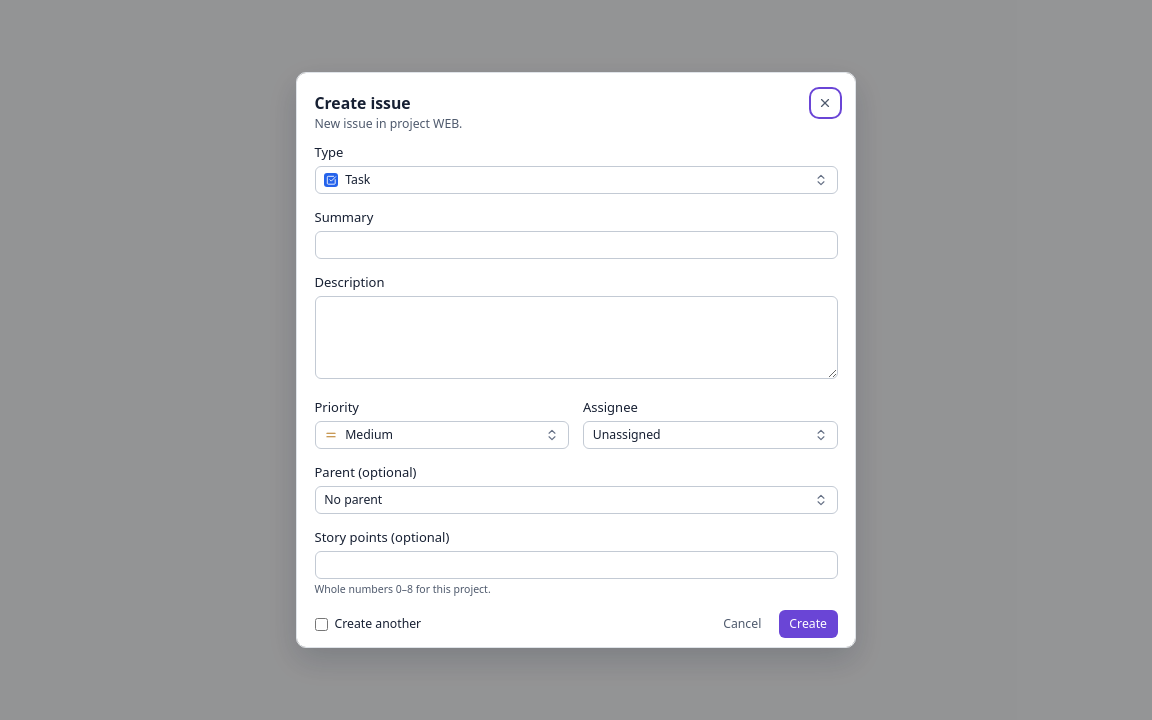
Test case: CreateIssueDialog › validates against effective max before create
Step 1. Type "Sized" into the field labelled "Summary" → (576,245), box [314,231,838,259]
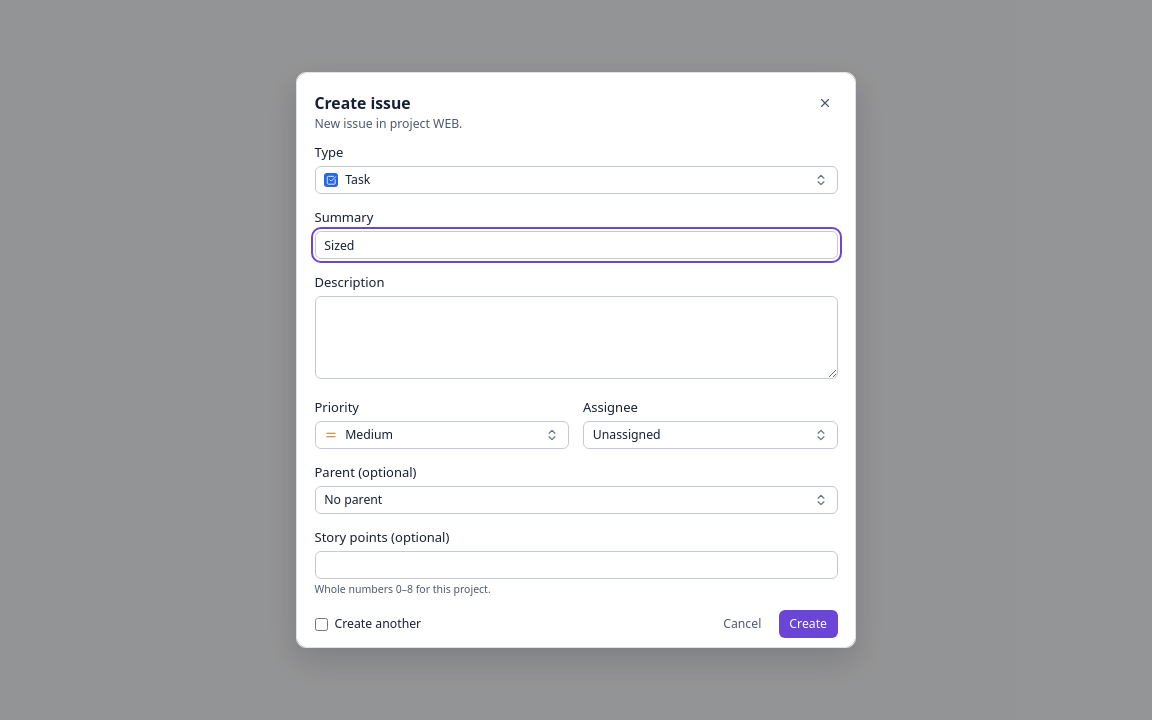
Step 2. Type "9" into the number field labelled "Story points (optional)" → (576,564), box [314,550,838,578]
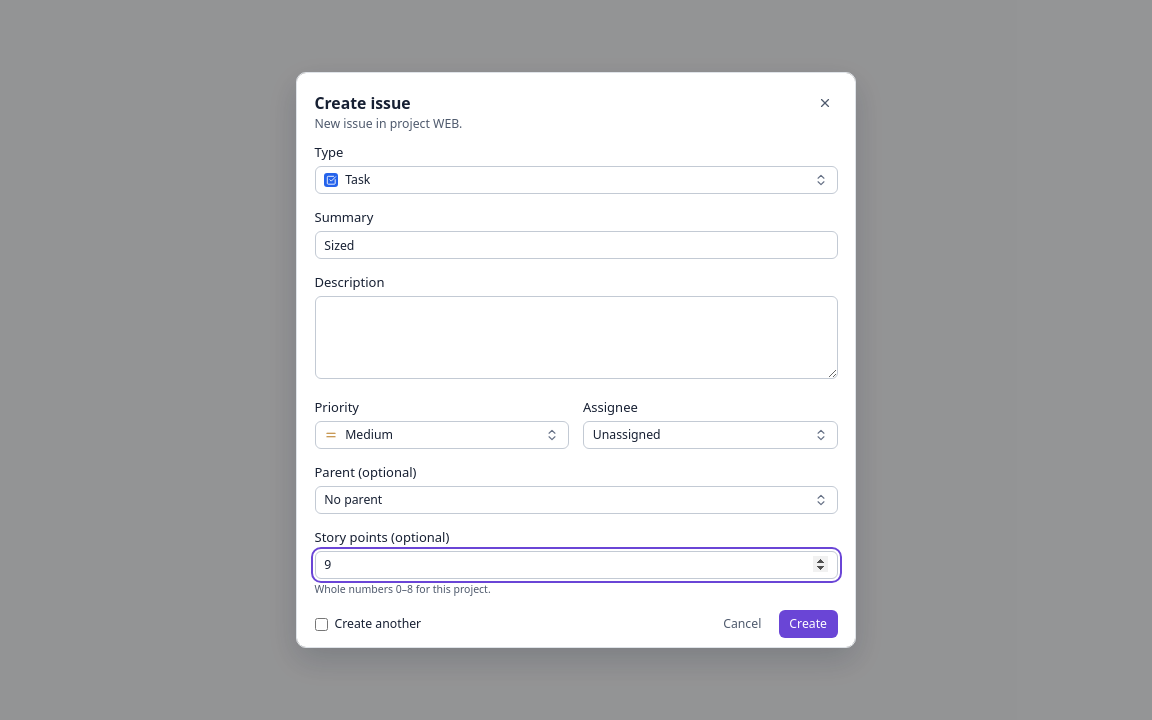
Step 3. Click the button "Create" → (808,624), box [779,610,838,638]
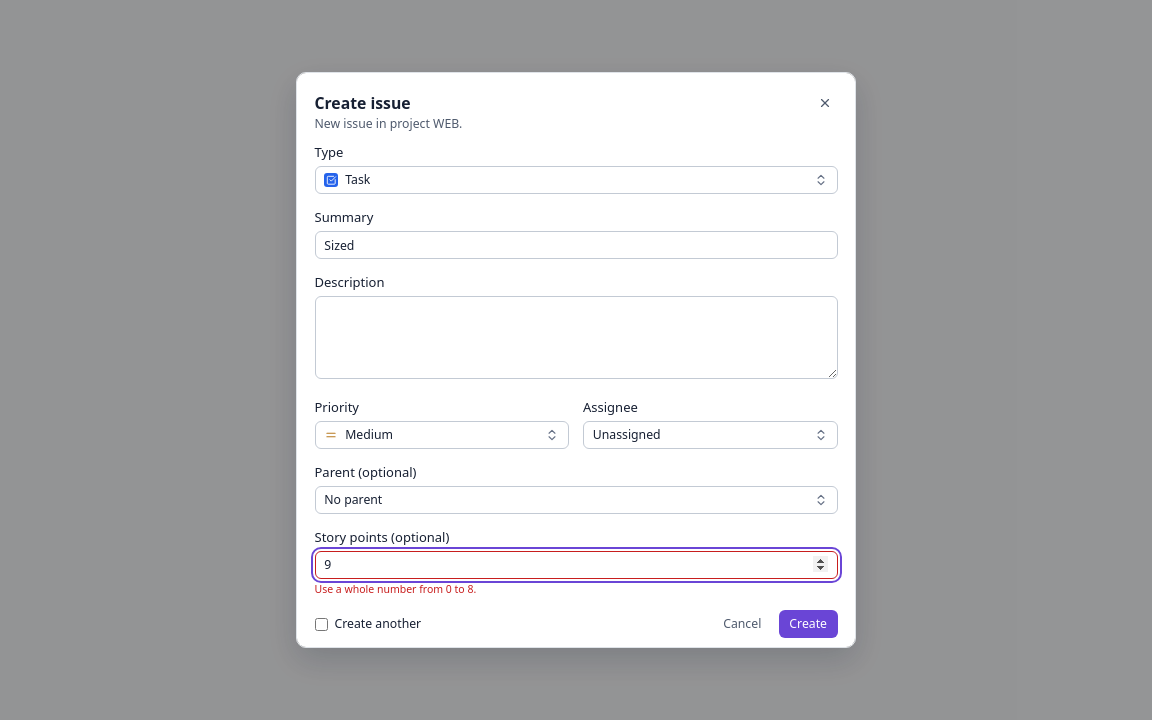
Expected: the text "Use a whole number from 0 to 8." is shown, [314,582,476,596]
